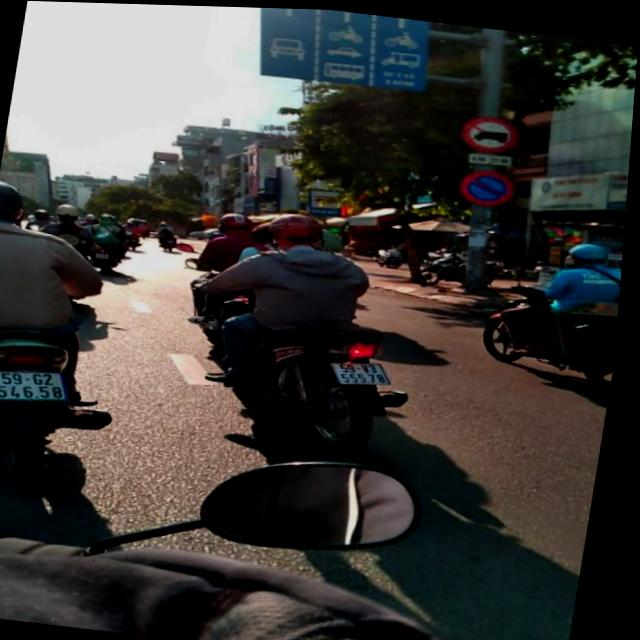Cam do xe: (459, 164, 519, 206)
Cam xe tai: (459, 109, 524, 153)
